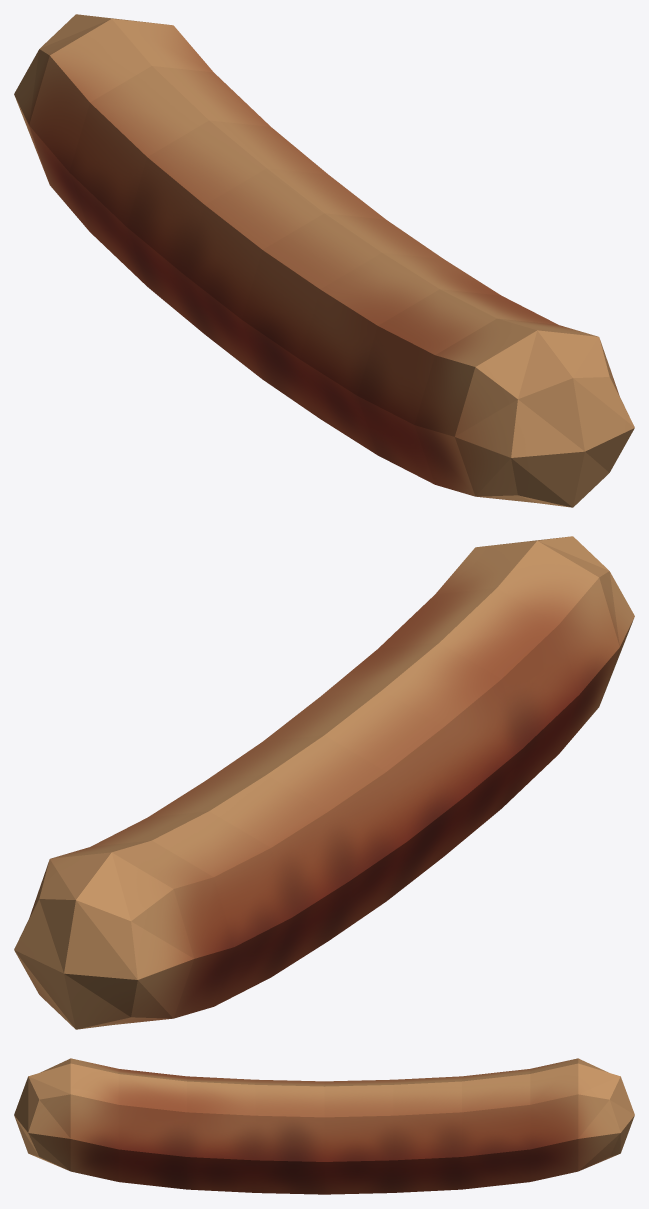
File: sausage.glb
3 views of the same model, one above another, from view 1: azimuth 30°, elevation 25°; view 2: azimuth 150°, elevation 25°; view 3: azimuth 270°, elevation 25° (orthographic). The views are drawn at different scales.
Parts seen in each view (by area): view 1: Node; view 2: Node; view 3: Node.
Boxes of the visible parts, x1=… form: Node: x1=14, y1=14, x2=634, y2=507; Node: x1=14, y1=536, x2=634, y2=1029; Node: x1=14, y1=1058, x2=634, y2=1194.
Size of the model in its own units: 1 by 1.22 by 5.46.
Materials: 1 (1 with a texture image).
